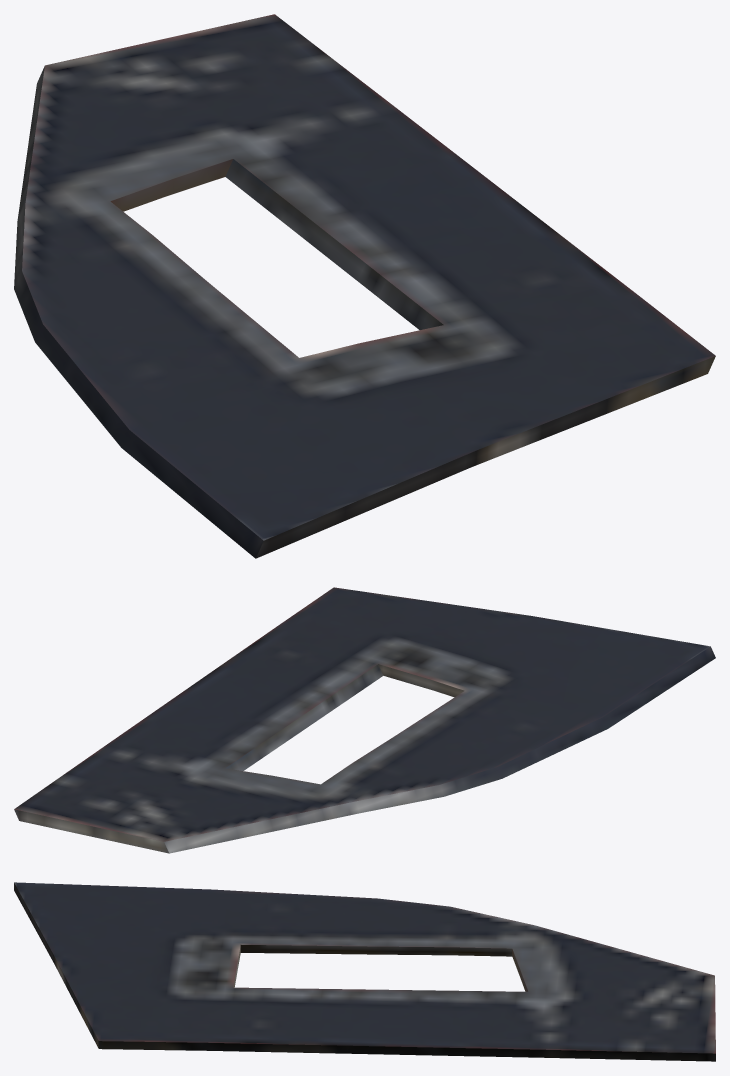
The model's file is FordCrownVic92DoorArmor_WorldItem.fbx.
The picture shows the model from 3 angles, top to bottom: view 1: azimuth 30°, elevation 25°; view 2: azimuth 150°, elevation 25°; view 3: azimuth 270°, elevation 25°; orthographic projection. The views are drawn at different scales.
Parts seen in each view (by area): view 1: FrontRightDoorArmor_obj; view 2: FrontRightDoorArmor_obj; view 3: FrontRightDoorArmor_obj.
Boxes of the visible parts, x1,y1,x2,y2 form: FrontRightDoorArmor_obj: [14, 14, 715, 558]; FrontRightDoorArmor_obj: [14, 587, 715, 853]; FrontRightDoorArmor_obj: [14, 882, 715, 1061].
Size of the model in its own units: 0.8888 by 0.0478 by 1.49.
